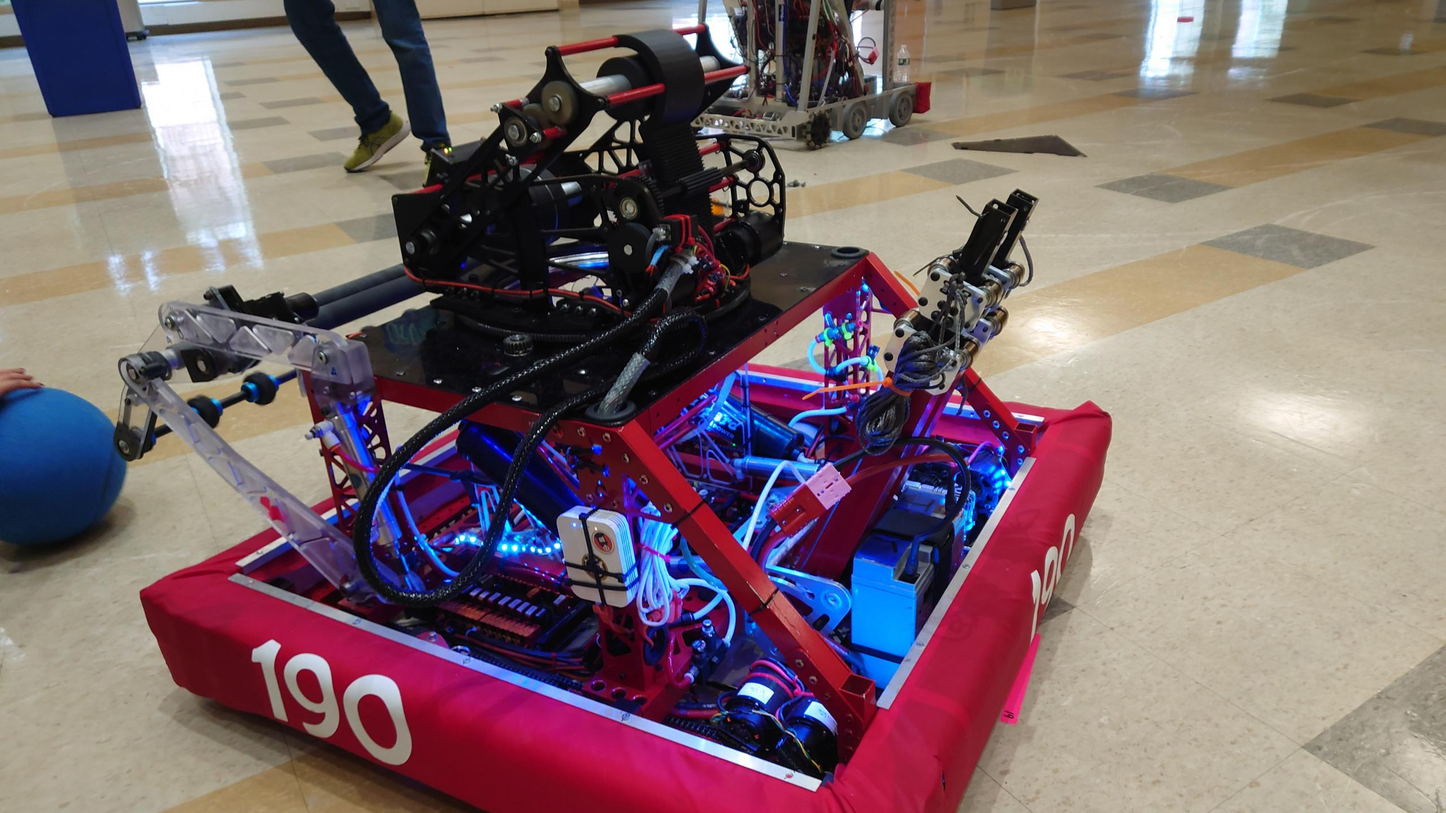robot: (113, 29, 1120, 813), (655, 0, 942, 149)
